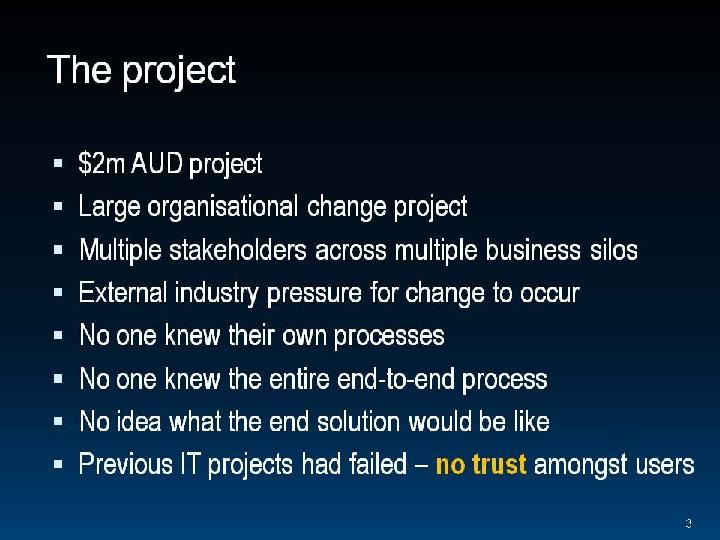paragraph: (41, 133, 707, 489)
title: (35, 41, 264, 99)
